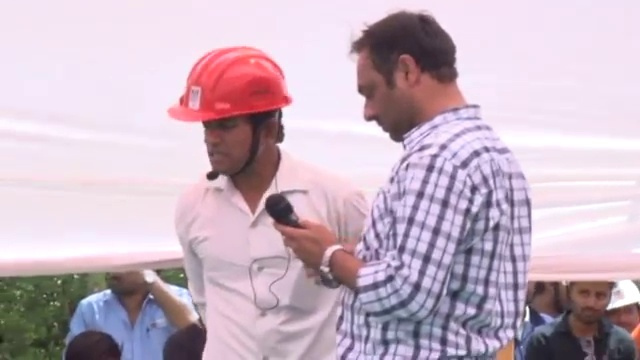helmet: (166, 44, 296, 124), (605, 279, 639, 311)
helmet_off: (348, 13, 472, 148), (566, 279, 617, 330), (524, 278, 569, 317), (104, 270, 150, 307)
helmet_on: (168, 45, 296, 181), (605, 280, 640, 333)
person: (285, 5, 538, 359), (166, 42, 372, 353), (69, 266, 197, 359), (523, 279, 639, 360)
